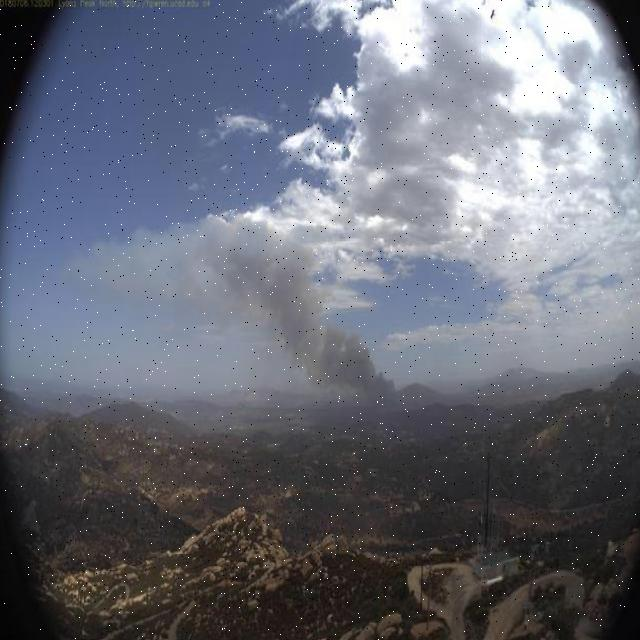smoke: (67, 211, 407, 416)
